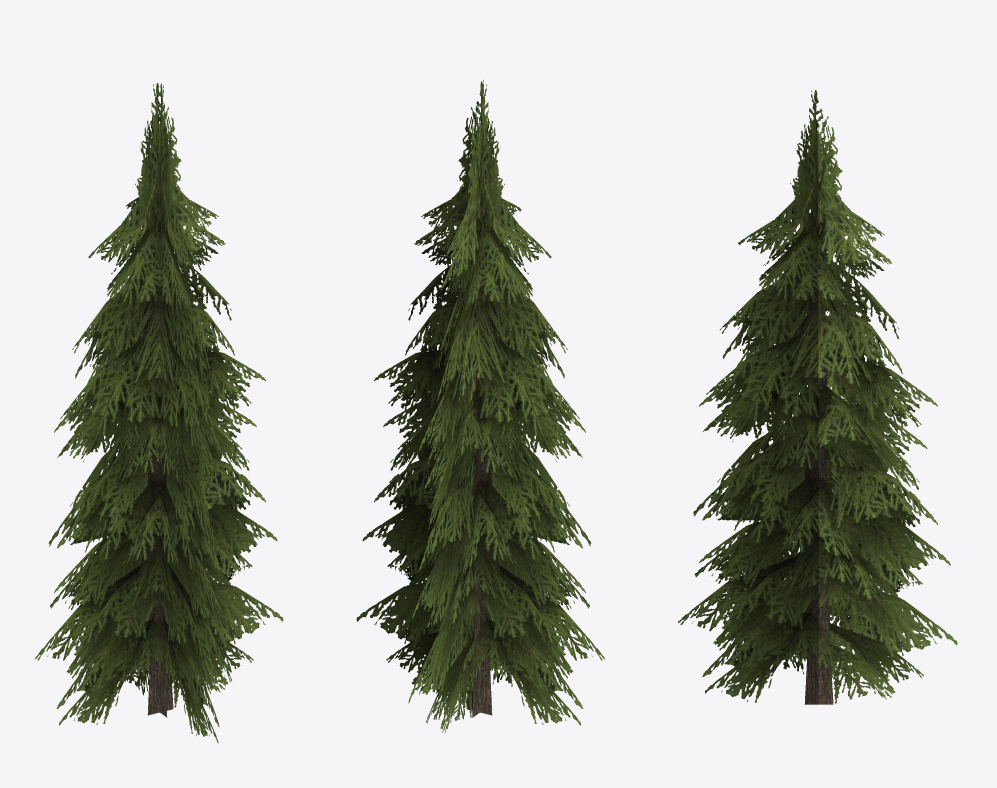
Rendered from cedar_tree_fan.obj.
3 renders of one model, left to right at view 1: azimuth 30°, elevation 25°; view 2: azimuth 150°, elevation 25°; view 3: azimuth 270°, elevation 25°, orthographic. The views are drawn at different scales.
Visible parts, largest first — view 1: cedar_fan_LOD_3000_CreateFan; view 2: cedar_fan_LOD_3000_CreateFan; view 3: cedar_fan_LOD_3000_CreateFan.
Boxes of the visible parts, x1,y1,x2,y2 form: cedar_fan_LOD_3000_CreateFan: (35,83,283,743); cedar_fan_LOD_3000_CreateFan: (356,80,604,732); cedar_fan_LOD_3000_CreateFan: (678,90,957,704).
Bounding box in the file's own units: 5.69 × 11.89 × 5.69.
Materials: 1 (1 with a texture image).
